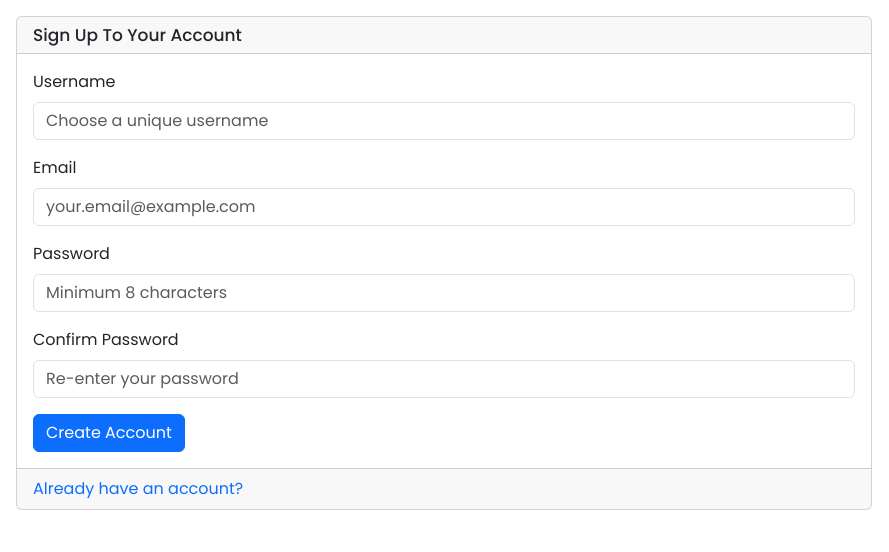
RegisterUser › 🎭 Interactions — Zod validation (onTouched) › shows error for invalid email format
The image size is (889, 552).
Type "not-an-email" into the field labelled "Email" at (444, 207), box [33,188,855,226]
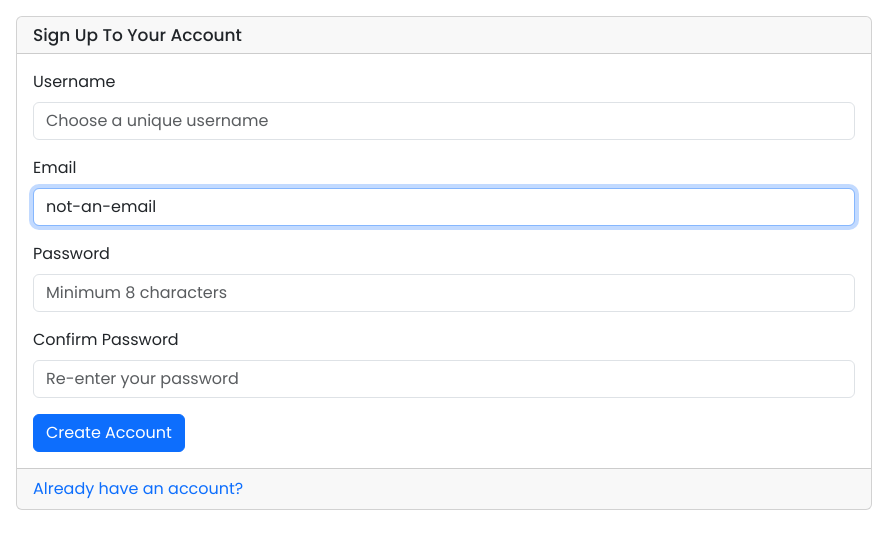
Press Tab
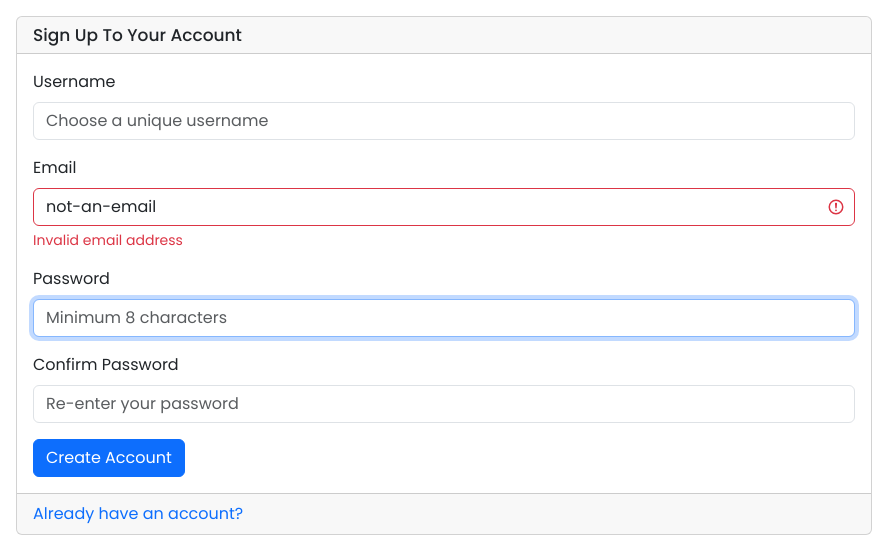
Check: the text "Invalid email address" is shown, box [33,230,183,250]
